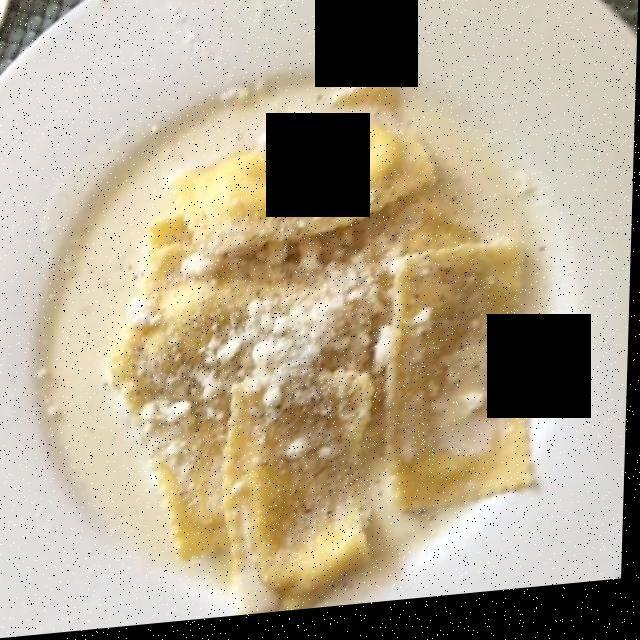cheese: (112, 64, 528, 466)
pasta: (75, 79, 536, 594)
sauce: (50, 98, 244, 594)
